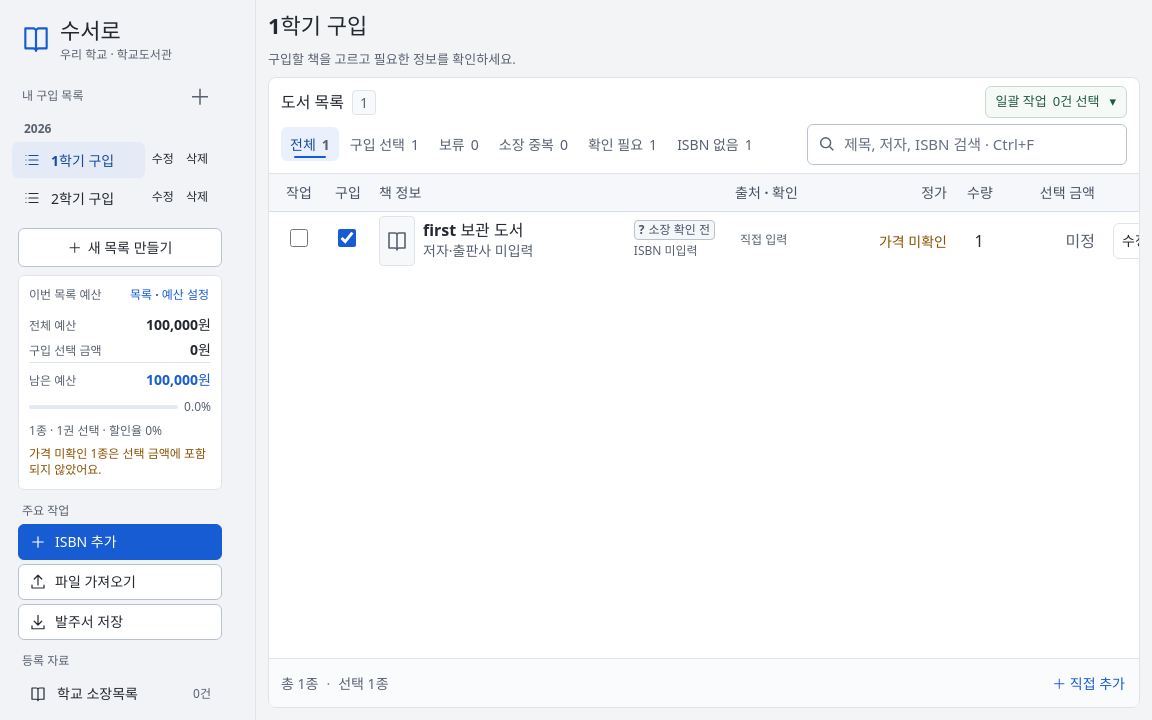
Test: edits an inactive list from the menu while keeping the open purchase list
The image size is (1152, 720).
Check: the button "first 보관 도서" is shown, box [423, 220, 626, 240]
Click the button with aria-label "2학기 구입 목록 수정" at [163, 197], box [147, 179, 179, 215]
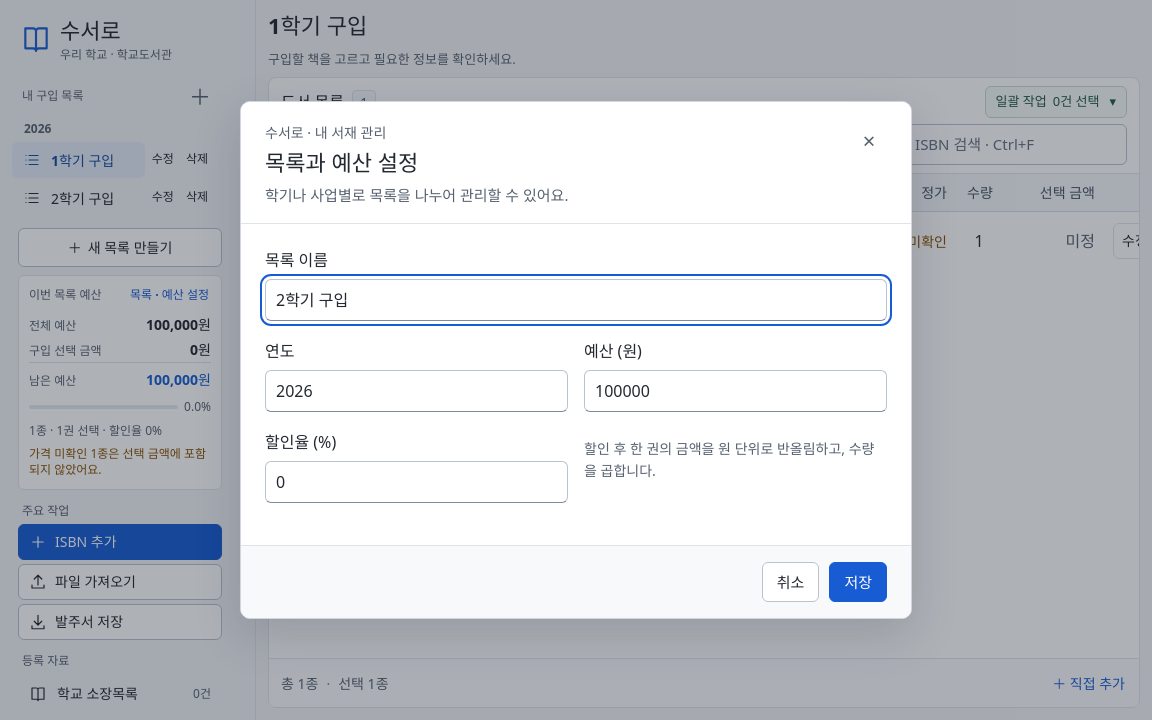
Replace the text in the field labelled "목록 이름" with "독서 사업" at [576, 300], box [265, 279, 887, 321]
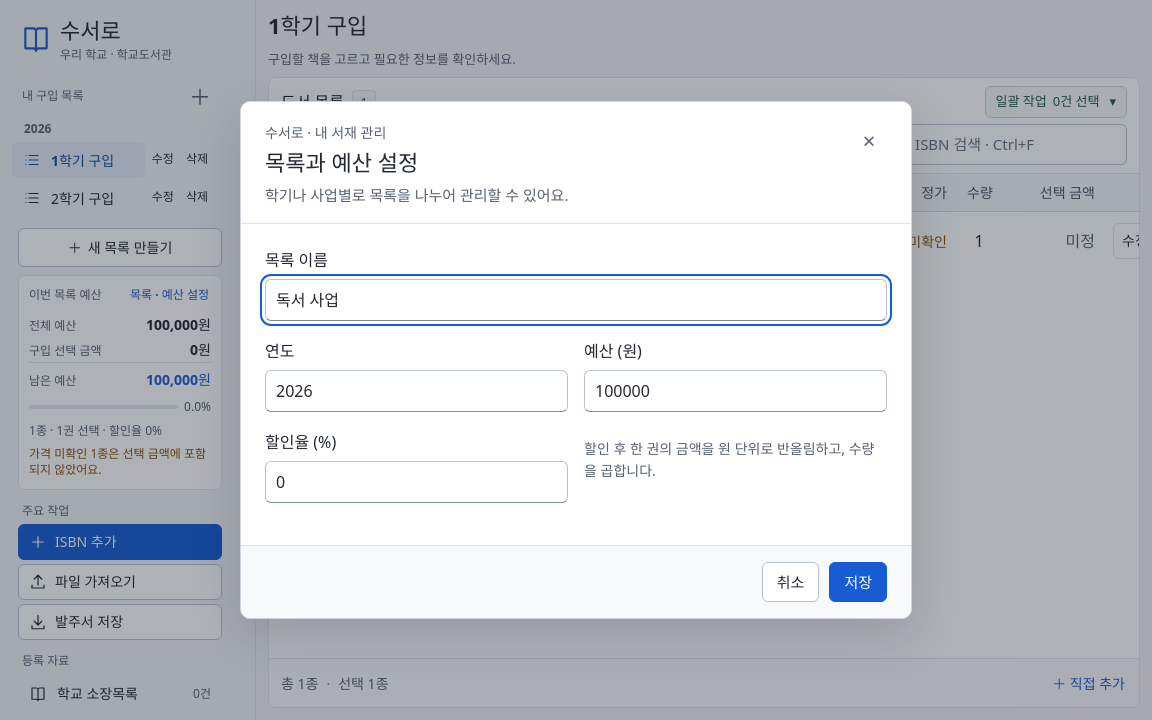
Replace the text in the number field labelled "예산 (원)" with "250000" at [736, 391], box [584, 370, 887, 412]
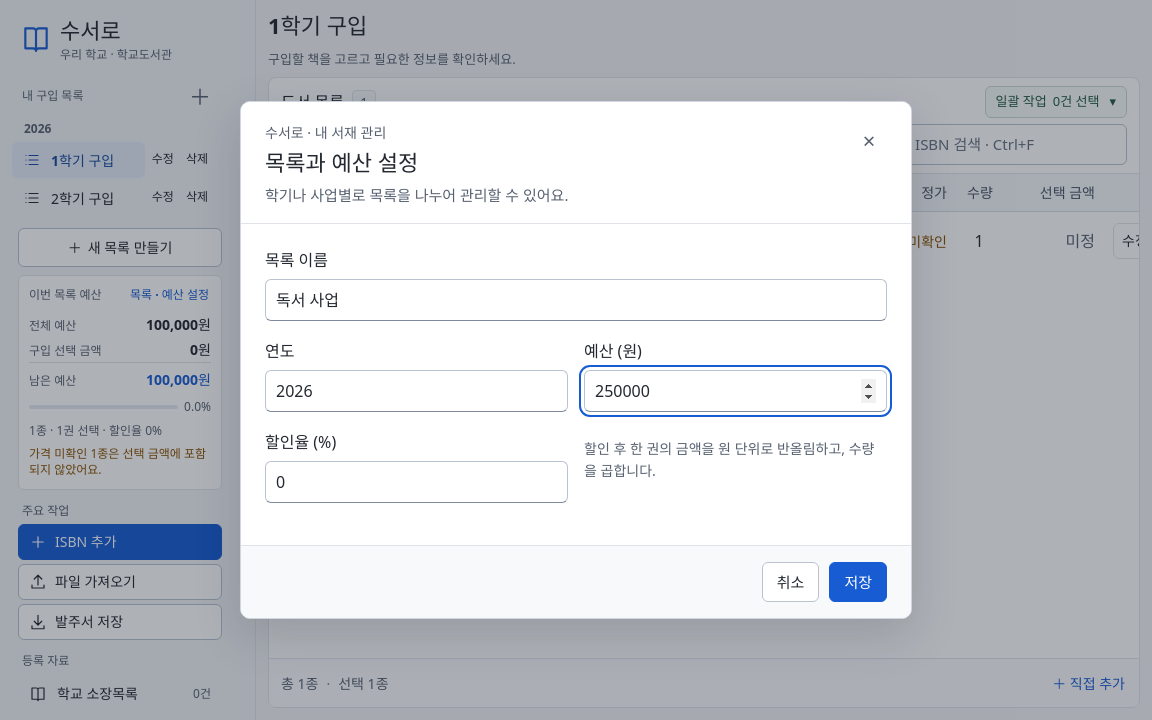
Click the button "저장" at [858, 582], box [829, 562, 887, 602]
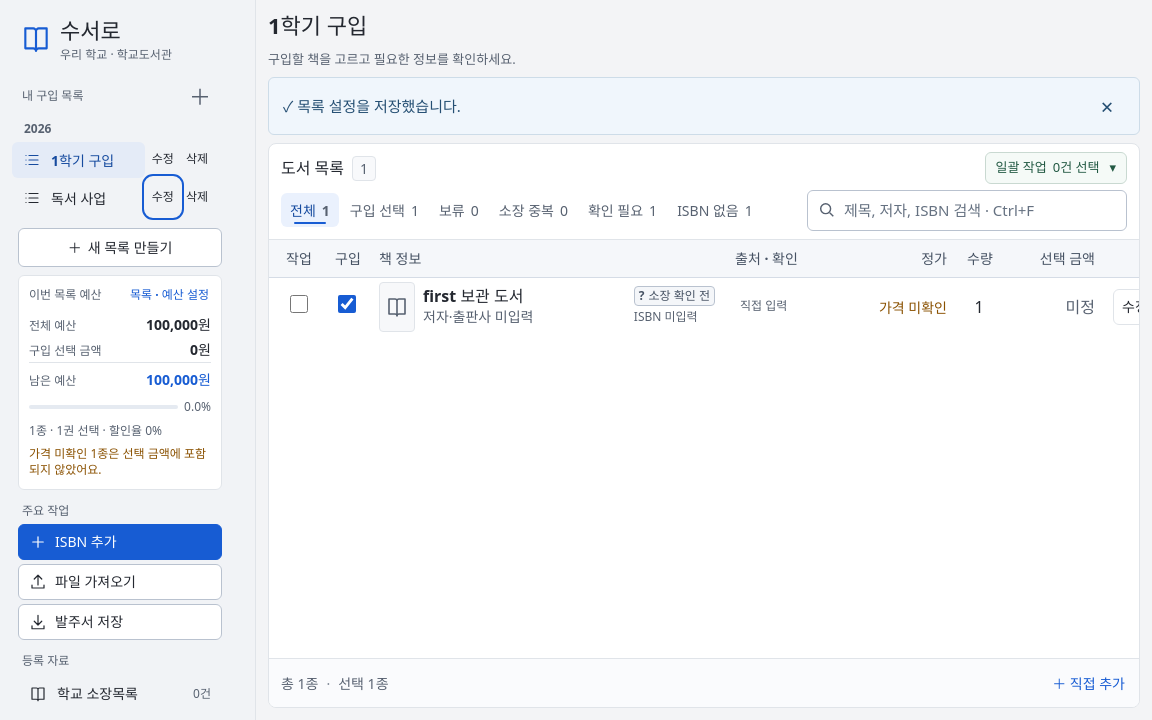
Check: the heading "1학기 구입" is shown, box [268, 12, 367, 40]
Check: the button with aria-label "독서 사업 목록 수정" is shown, box [147, 179, 179, 215]
